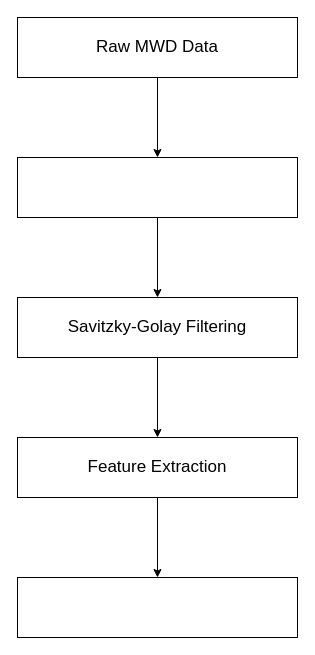
The diagram is 315 pixels wide and 655 high, and some of its shapes have lost their labels. Here are the shapes that lost their labels. From the top down, the centre of each, then its label:
the point at 157,187: Signal Extraction
the point at 157,607: State Classification
